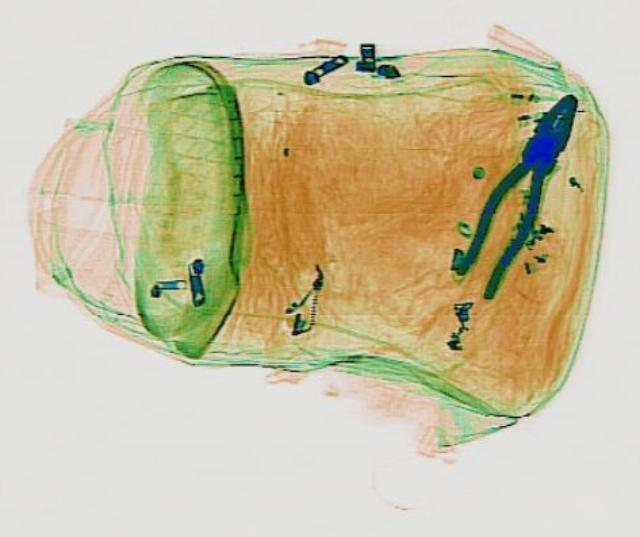Pliers: (440, 86, 594, 297)
